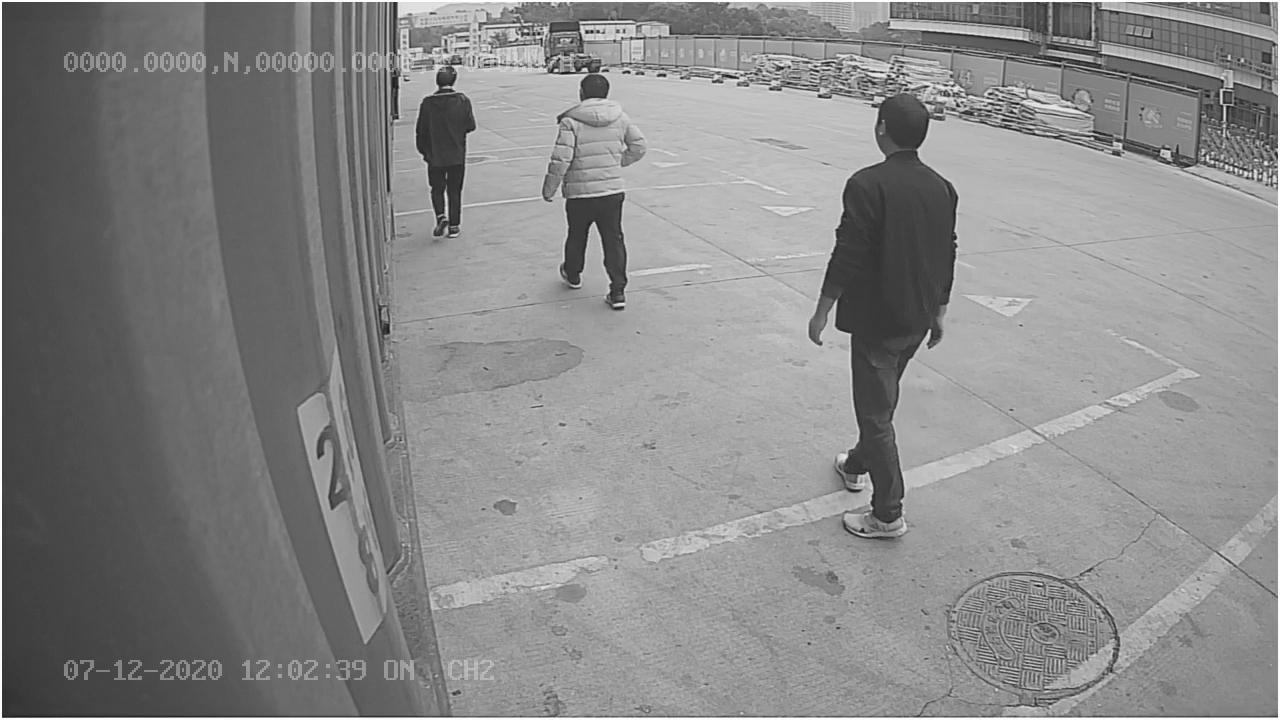person: (808, 85, 963, 540), (545, 70, 652, 312)
